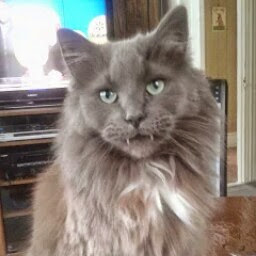cat: (48, 5, 219, 247)
